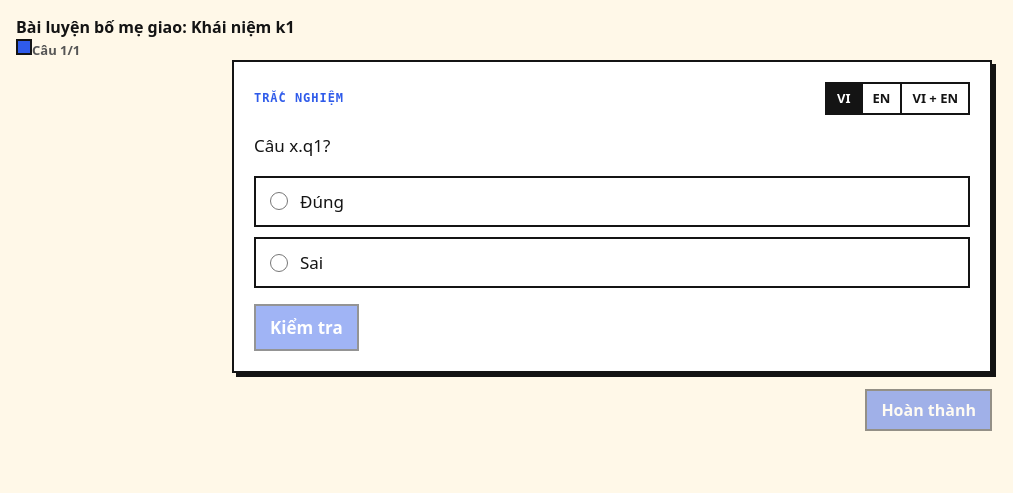
it: AssignedPracticeScreen › finishing the practice removes it
The image size is (1013, 493).
Expected: the heading "Bài luyện bố mẹ giao: Khái niệm k1" is shown, [16,16,294,38]
What coordinates should you click on to do the following:
click the radio button labelled "Đúng"
I would click on:
 (279, 201)
Its box is [270,192,288,210].
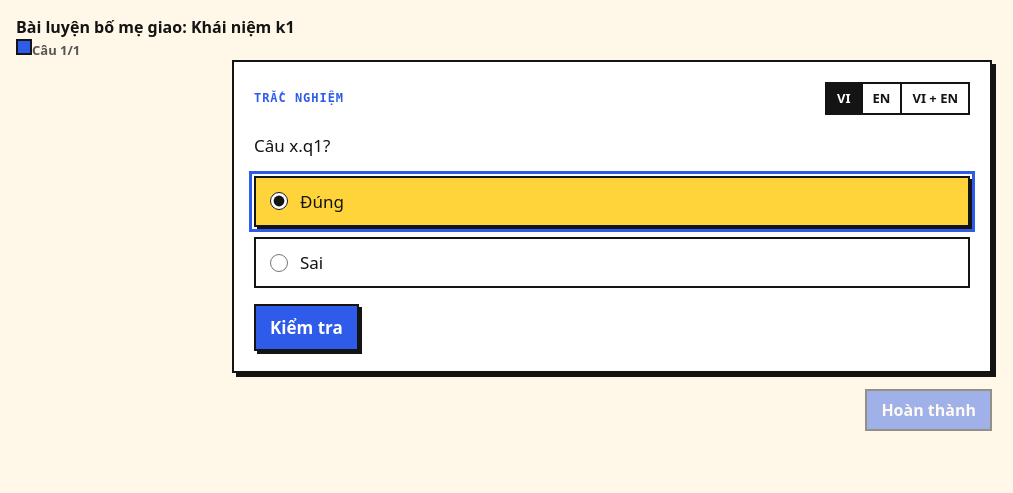
What coordinates should you click on to do the following:
click the button "Kiểm tra"
I would click on:
 (306, 328)
Its box is [254,304,359,351].
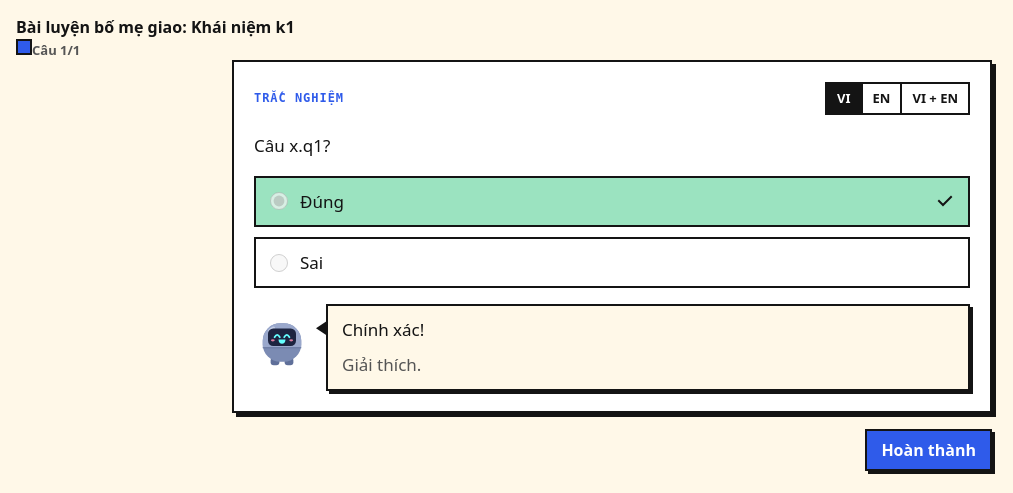
What coordinates should you click on to do the following:
click the button "Hoàn thành"
I would click on:
 (929, 450)
Its box is [865,428,992,470].
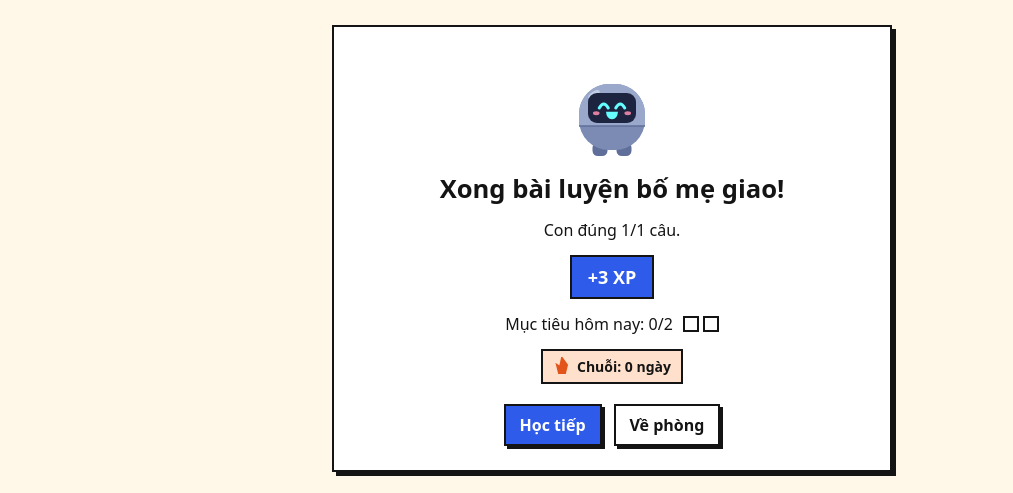
Now the heading "Xong bài luyện bố mẹ giao!" is shown, box [440,173,784,205]
